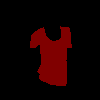t-shirt: (30, 26, 72, 86)
